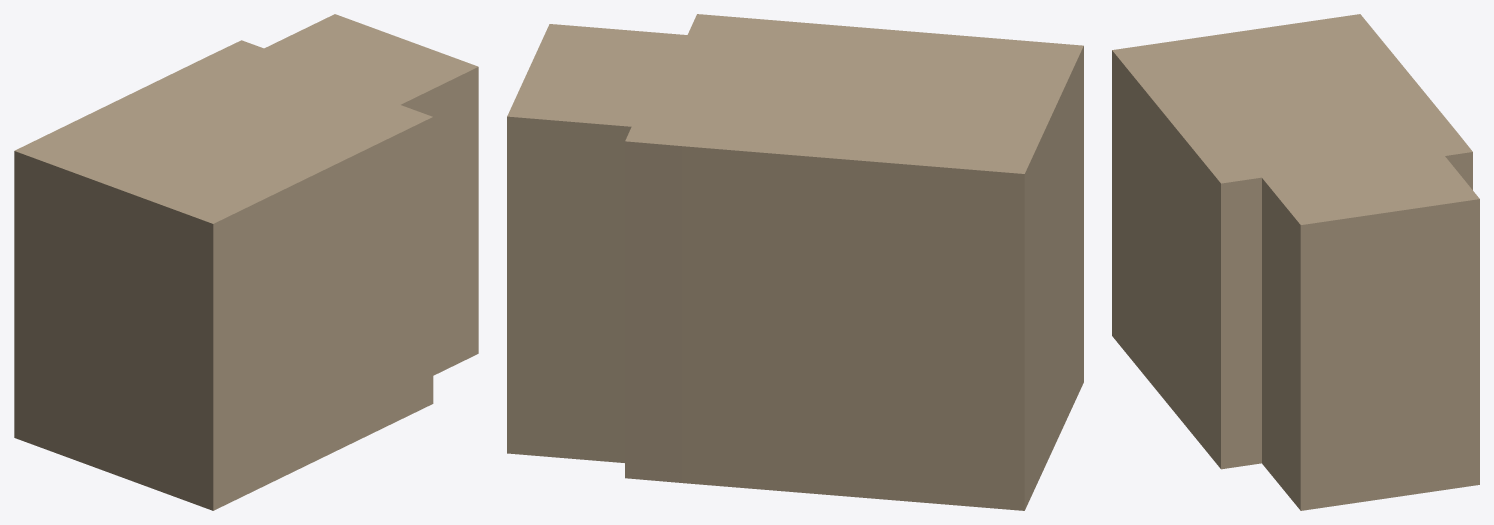
File: bld_108162202.dae
The picture shows the model from 3 angles, left to right: view 1: azimuth 30°, elevation 25°; view 2: azimuth 150°, elevation 25°; view 3: azimuth 270°, elevation 25°; orthographic projection. The views are drawn at different scales.
Visible parts, largest first — view 1: bld_108162202; view 2: bld_108162202; view 3: bld_108162202.
Boxes of the visible parts, left/top/right/bottom form: bld_108162202: left=14, top=14, right=478, bottom=510; bld_108162202: left=507, top=14, right=1083, bottom=510; bld_108162202: left=1112, top=14, right=1479, bottom=510.
Size of the model in its own units: 12.68 by 9.34 by 8.
